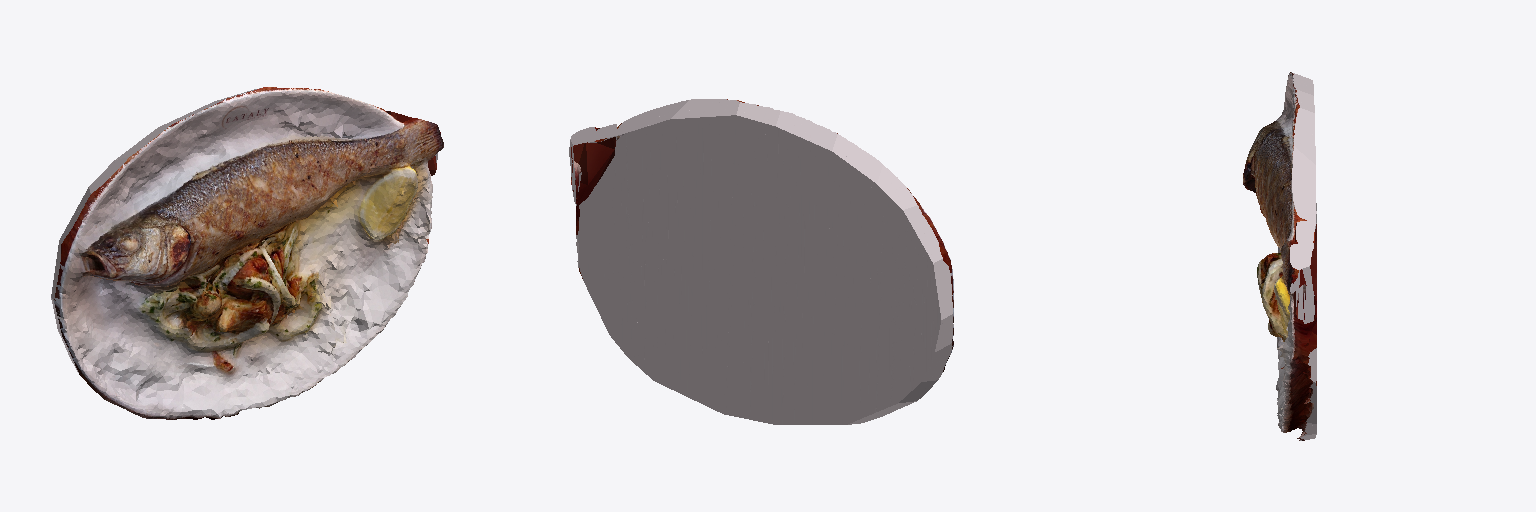
3 views of the same model, side by side, from view 1: azimuth 30°, elevation 25°; view 2: azimuth 150°, elevation 25°; view 3: azimuth 270°, elevation 25° (orthographic).
Parts seen in each view (by area): view 1: Object_2; view 2: Object_2; view 3: Object_2.
Boxes of the visible parts, box(x1,y1,x2,y2) form: Object_2: box(51, 87, 443, 419); Object_2: box(569, 99, 953, 424); Object_2: box(1243, 72, 1316, 440).
Size of the model in its own units: 2.24 by 1.74 by 0.3752.
Materials: 1 (1 with a texture image).